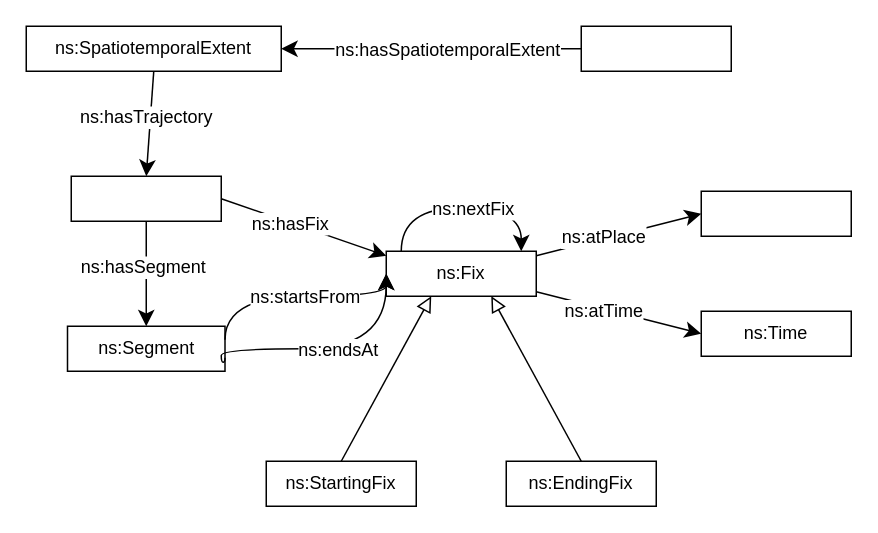
The diagram is 878 pixels wide and 533 high, and some of its shapes have lost their labels. Each missing label, with the centre of its shape:
"ns: Place" goes at (x=775, y=213).
"ns: Trajectory" goes at (x=145, y=198).
"owl:Thing" goes at (x=655, y=48).
